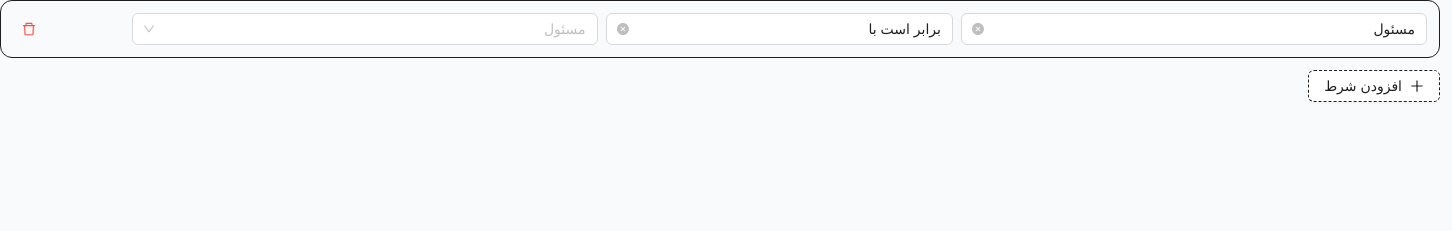
Scenario: WorkflowConditionsGroup › uses central relationOptions for synthetic assignee fields
Click the dropdown.
click(374, 29)  # box [162,14,586,44]
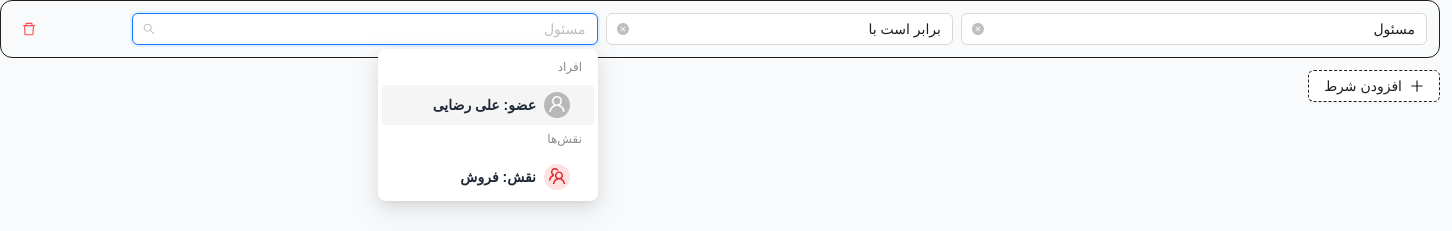
Now the text "عضو: علی رضایی" is shown, box [433,97,536,113]
Now the text "نقش: فروش" is shown, box [460,169,536,185]
